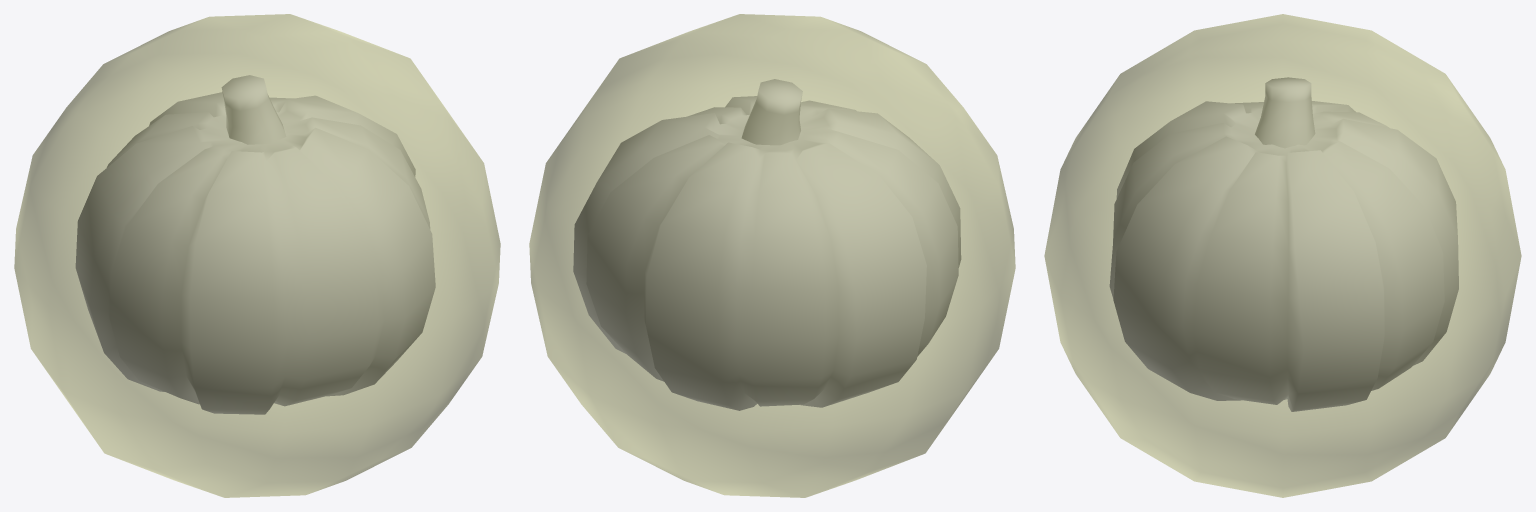
Rendered from SM_pumpkin.fbx.
3 renders of one model, left to right at view 1: azimuth 30°, elevation 25°; view 2: azimuth 150°, elevation 25°; view 3: azimuth 270°, elevation 25°, orthographic.
Visible parts, largest first — view 1: SM_pumpkin; view 2: SM_pumpkin; view 3: SM_pumpkin.
Boxes of the visible parts, bbox=[...] form: SM_pumpkin: bbox=[14, 14, 500, 497]; SM_pumpkin: bbox=[529, 14, 1015, 497]; SM_pumpkin: bbox=[1044, 14, 1521, 497].
Size of the model in its own units: 208 by 208 by 208.
